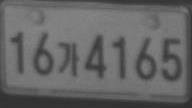1: (8, 30, 30, 73), (110, 36, 132, 79)
4: (84, 34, 107, 78)
5: (160, 38, 183, 81)
6: (135, 36, 157, 80), (33, 32, 54, 75)
가: (58, 41, 80, 75)
